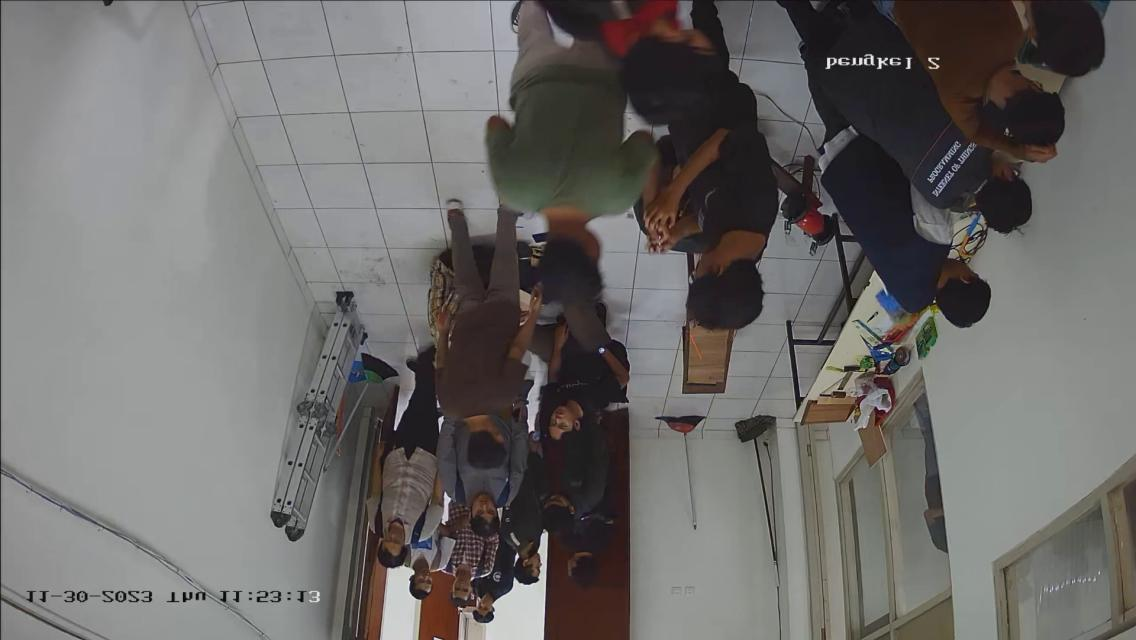Crowd: (356, 198, 638, 631), (486, 0, 800, 354)
